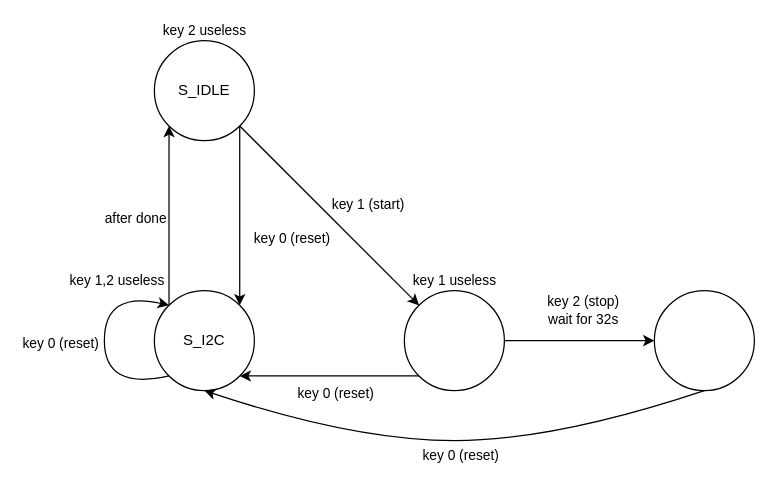
This 776x484 diagram has some shape labels left out. The centre of each missing label's shape, as x and y in pixels:
S_PLAY: the point at 703,340
S_REC: the point at 453,340
